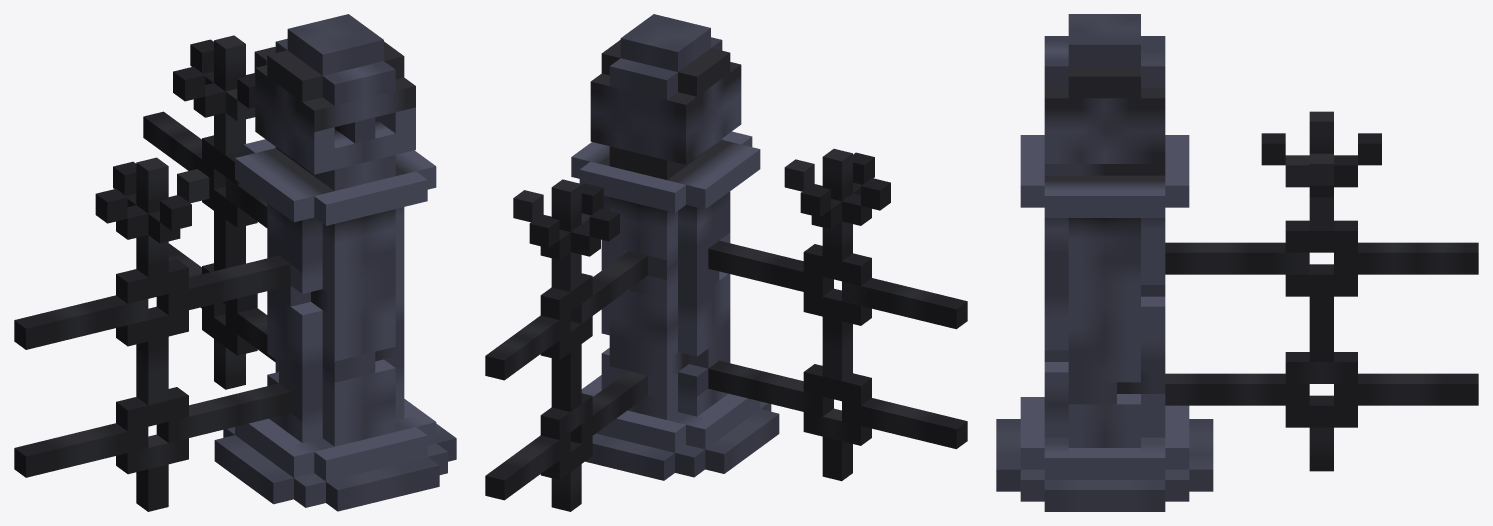
Rendered from Graveyard_fence_rc_face.dae.
The picture shows the model from 3 angles, left to right: view 1: azimuth 30°, elevation 25°; view 2: azimuth 150°, elevation 25°; view 3: azimuth 270°, elevation 25°; orthographic projection. The views are drawn at different scales.
Visible parts, largest first — view 1: Graveyard_fence_rc_face; view 2: Graveyard_fence_rc_face; view 3: Graveyard_fence_rc_face.
Part boxes in pixels (left/top/right/bottom): Graveyard_fence_rc_face: left=14, top=14, right=456, bottom=511; Graveyard_fence_rc_face: left=485, top=14, right=967, bottom=511; Graveyard_fence_rc_face: left=996, top=14, right=1478, bottom=511.
Size of the model in its own units: 20 by 20 by 20.
1 material, 1 textured.
